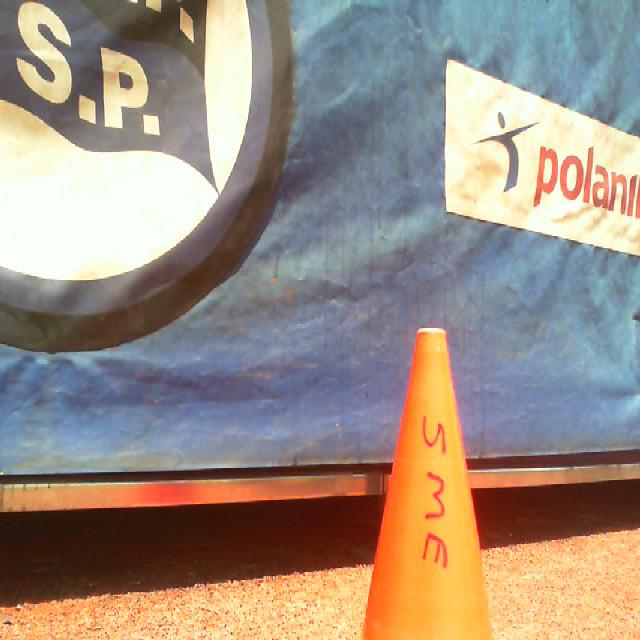cone: (360, 328, 494, 640)
